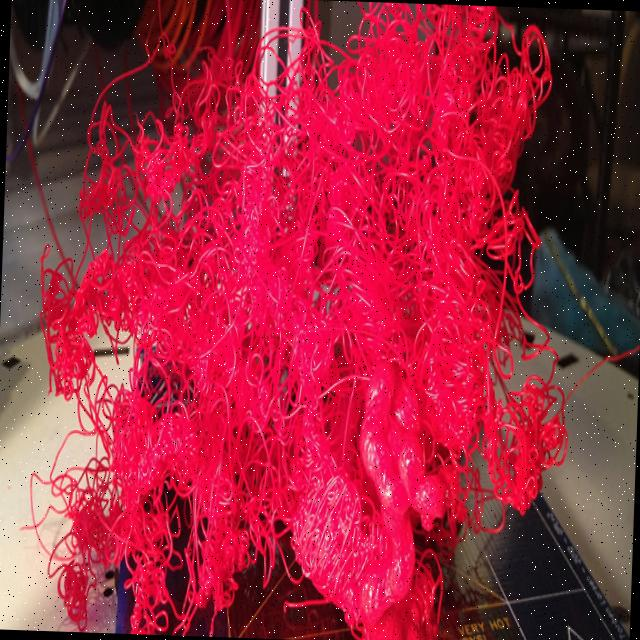spaghetti: (29, 0, 587, 640)
